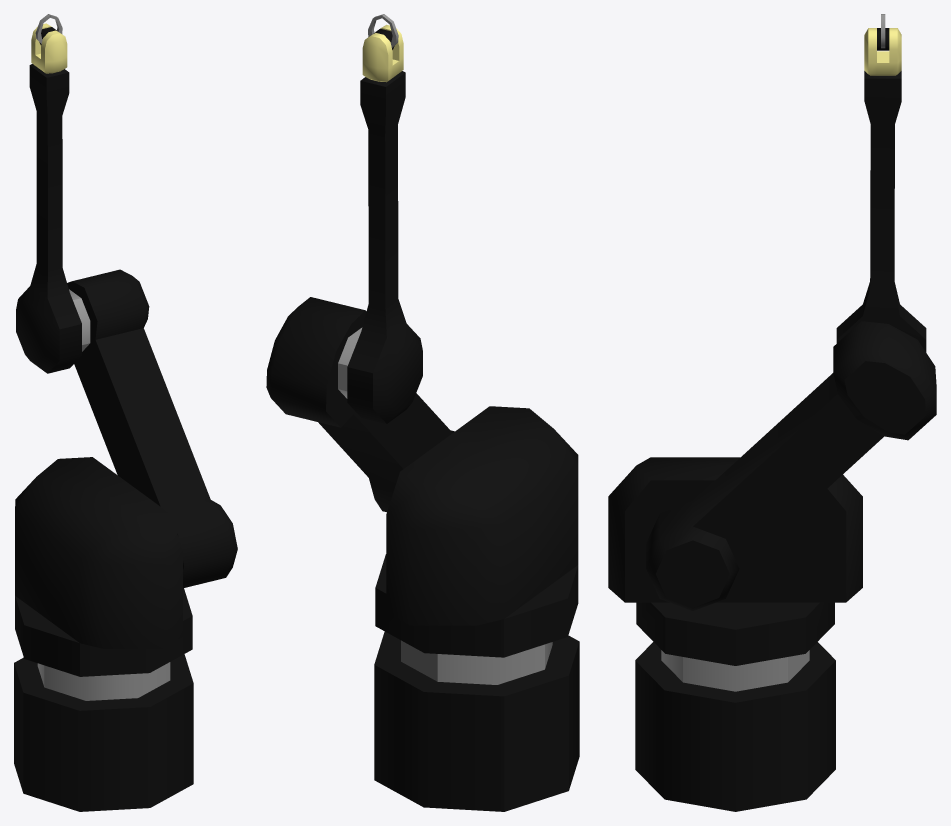
Rendered from Manip_1.fbx.
The picture shows the model from 3 angles, left to right: view 1: azimuth 30°, elevation 25°; view 2: azimuth 150°, elevation 25°; view 3: azimuth 270°, elevation 25°; orthographic projection. The views are drawn at different scales.
Visible parts, largest first — view 1: Cylinder009, Object032; view 2: Cylinder009, Object032; view 3: Cylinder009, Object032.
Part boxes in pixels (x1,y1,x2,y2): Cylinder009: (14,64,237,811); Object032: (31,23,67,73); Cylinder009: (266,71,579,811); Object032: (362,24,403,82); Cylinder009: (608,71,936,811); Object032: (864,28,901,75).
Size of the model in its own units: 21.71 by 82.5 by 32.22.
